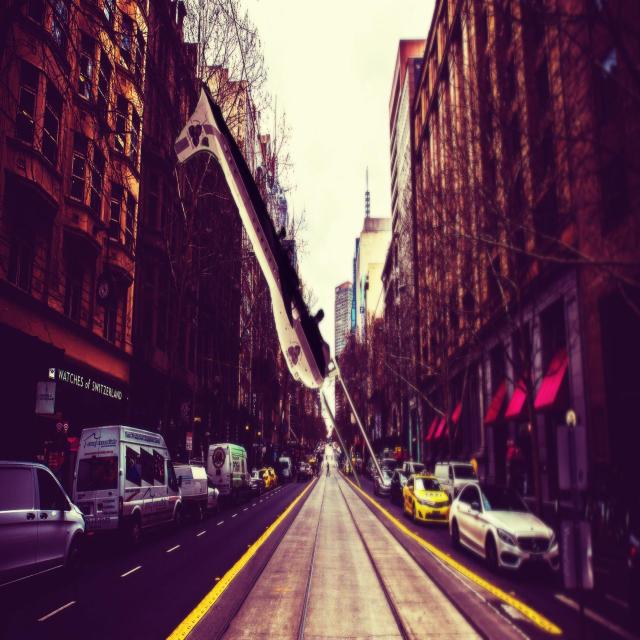airplane: (174, 87, 385, 488)
